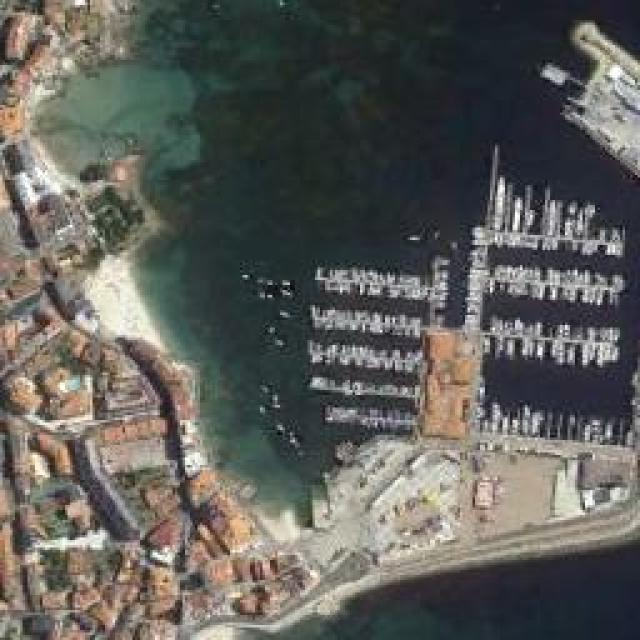Port: (187, 0, 637, 496)
